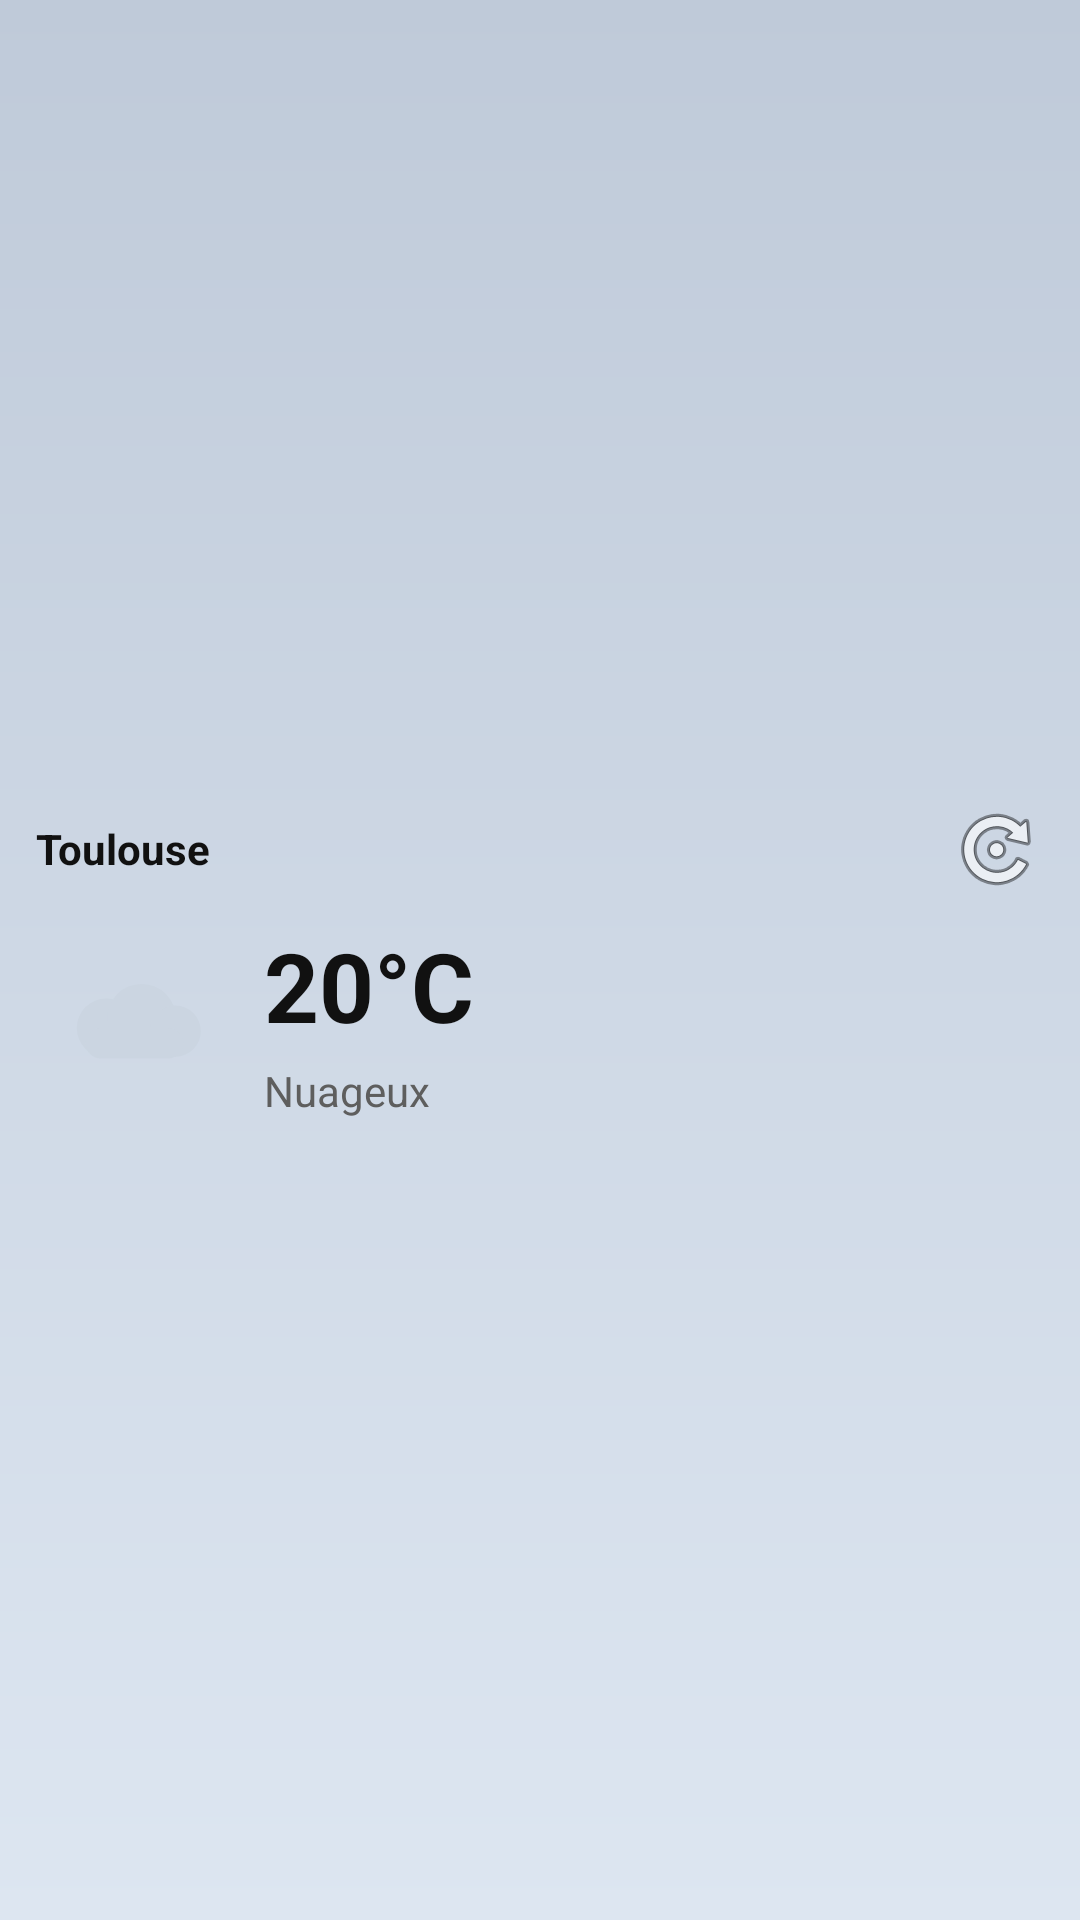

Icon click points for this 1080x1920 phone screenshot, format [x,y]:
Actualiser: [996,849]
